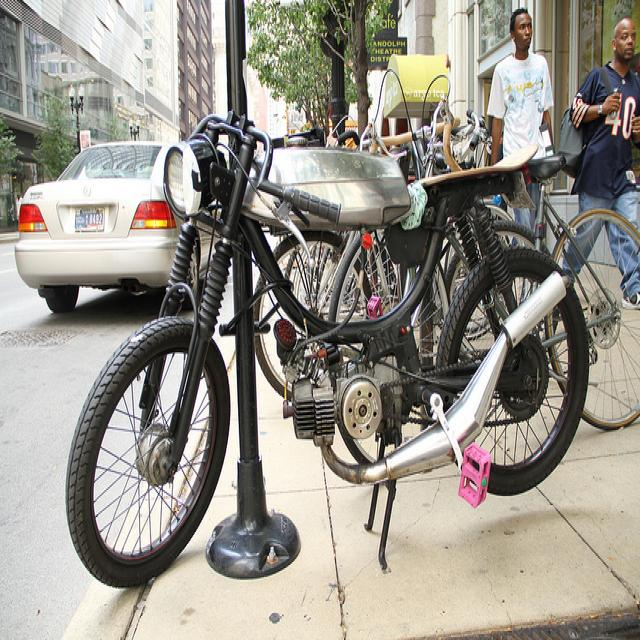motor: (75, 103, 586, 587)
